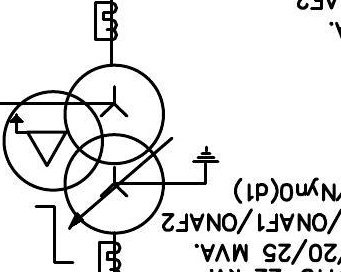11522_tx_ynyn0d1: (1, 62, 166, 236)
